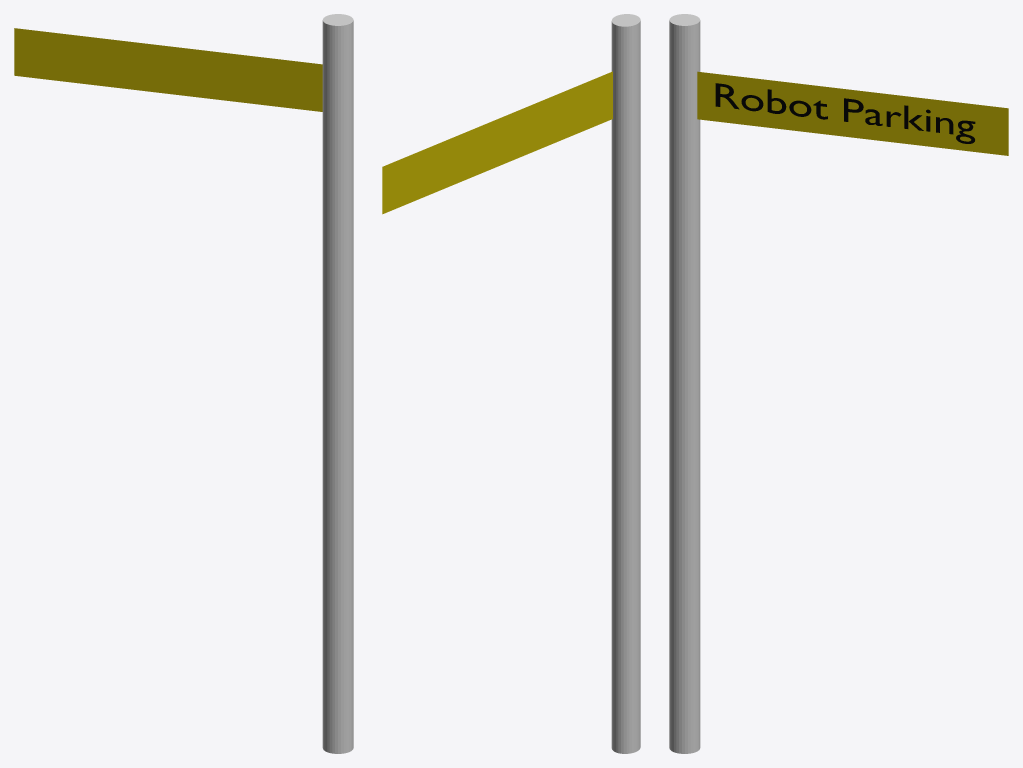
The model's file is parking_sign.dae.
The picture shows the model from 3 angles, left to right: view 1: azimuth 90°, elevation 25°; view 2: azimuth 150°, elevation 25°; view 3: azimuth 270°, elevation 25°; orthographic projection.
Visible parts, largest first — view 1: Cylinder, Cube; view 2: Cylinder, Cube; view 3: Cylinder, Cube, Text.
Part boxes in pixels (left/top/right/bottom): Cylinder: left=322, top=14, right=353, bottom=753; Cube: left=14, top=28, right=322, bottom=111; Cylinder: left=611, top=14, right=640, bottom=753; Cube: left=382, top=71, right=612, bottom=214; Cylinder: left=669, top=14, right=700, bottom=753; Cube: left=697, top=71, right=1008, bottom=155; Text: left=715, top=83, right=975, bottom=143.
Size of the model in its own units: 0.1153 by 0.3584 by 0.8491.
